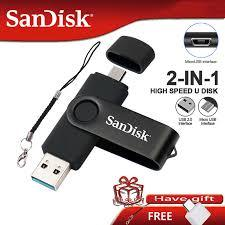Flash-drive: (24, 40, 185, 194)
